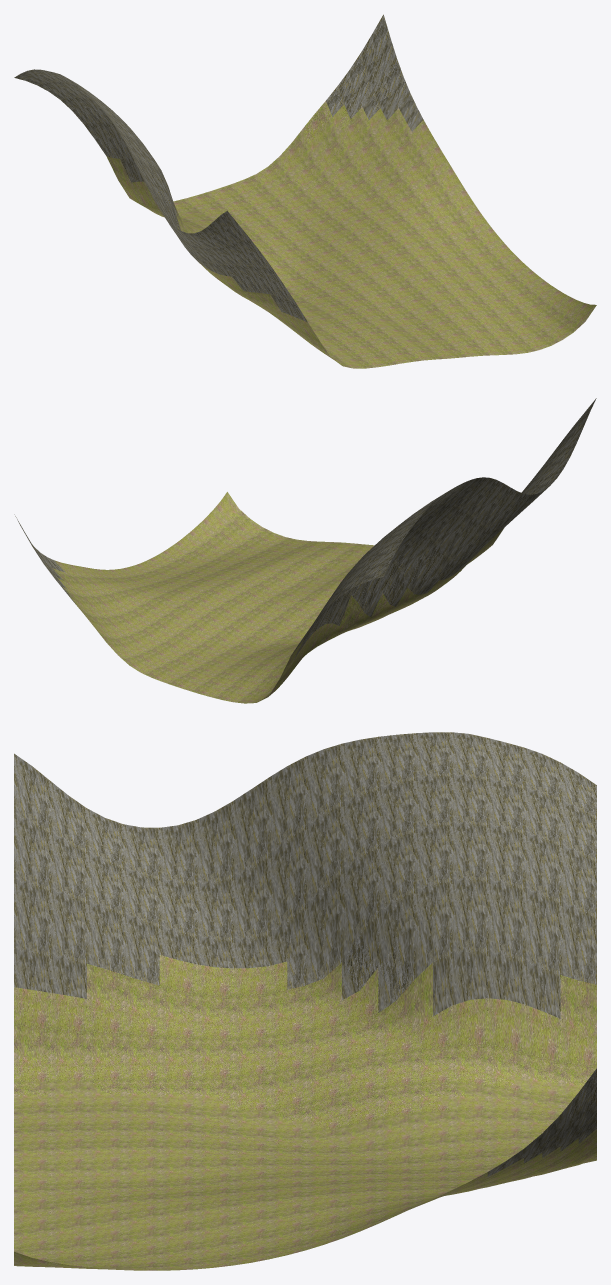
Rendered from chunk_1_1.glb.
3 views of the same model, one above another, from view 1: azimuth 30°, elevation 25°; view 2: azimuth 150°, elevation 25°; view 3: azimuth 270°, elevation 25° (orthographic). The views are drawn at different scales.
Visible parts, largest first — view 1: chunk_1_1-col; view 2: chunk_1_1-col; view 3: chunk_1_1-col.
Boxes of the visible parts, bbox=[...] form: chunk_1_1-col: bbox=[14, 14, 596, 368]; chunk_1_1-col: bbox=[14, 398, 596, 703]; chunk_1_1-col: bbox=[14, 732, 596, 1270].
Bounding box in the file's own units: 64 × 38.25 × 64.
Materials: 2 (2 with a texture image).
